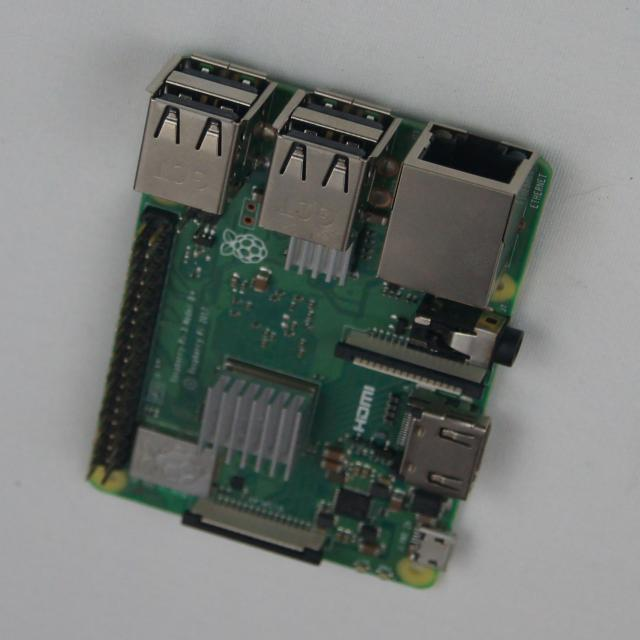Raspberry Pi 3 B-: (92, 57, 549, 588)
